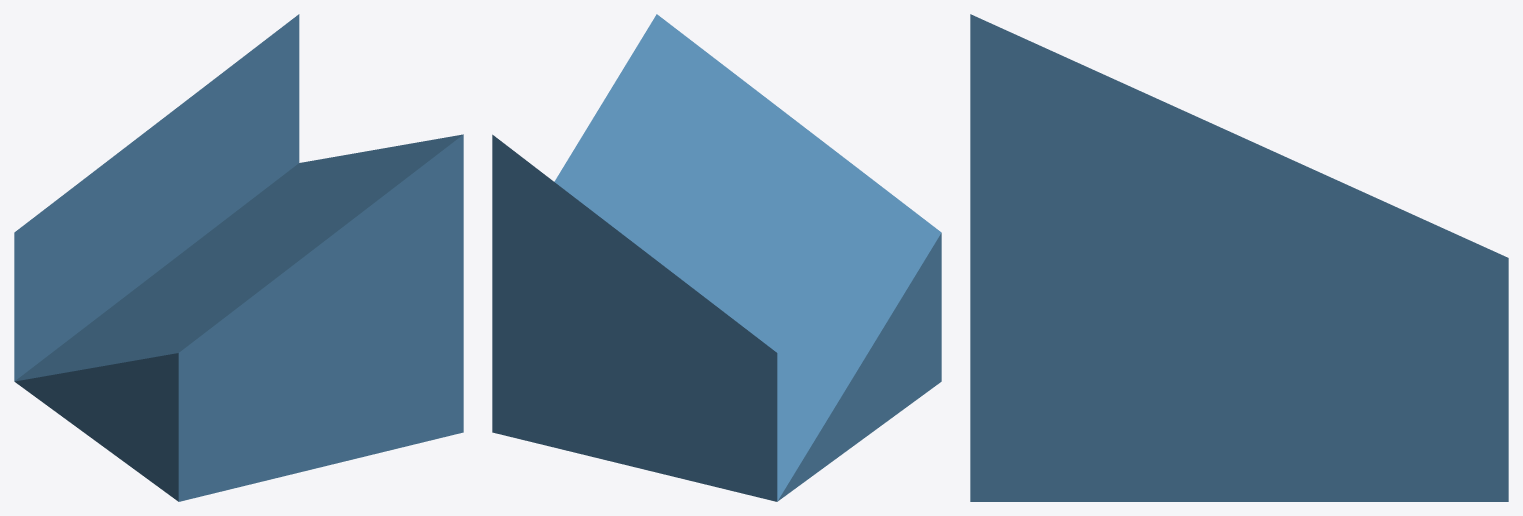
Rendered from Water_Corner.glb.
3 renders of one model, left to right at view 1: azimuth 30°, elevation 25°; view 2: azimuth 150°, elevation 25°; view 3: azimuth 270°, elevation 25°, orthographic. The views are drawn at different scales.
Visible parts, largest first — view 1: Water_Corner_body; view 2: Water_Corner_body; view 3: Water_Corner_body.
Boxes of the visible parts, bbox=[...] form: Water_Corner_body: bbox=[14, 14, 463, 501]; Water_Corner_body: bbox=[492, 14, 941, 501]; Water_Corner_body: bbox=[970, 14, 1508, 501].
Bounding box in the file's own units: 1 × 1 × 1.
